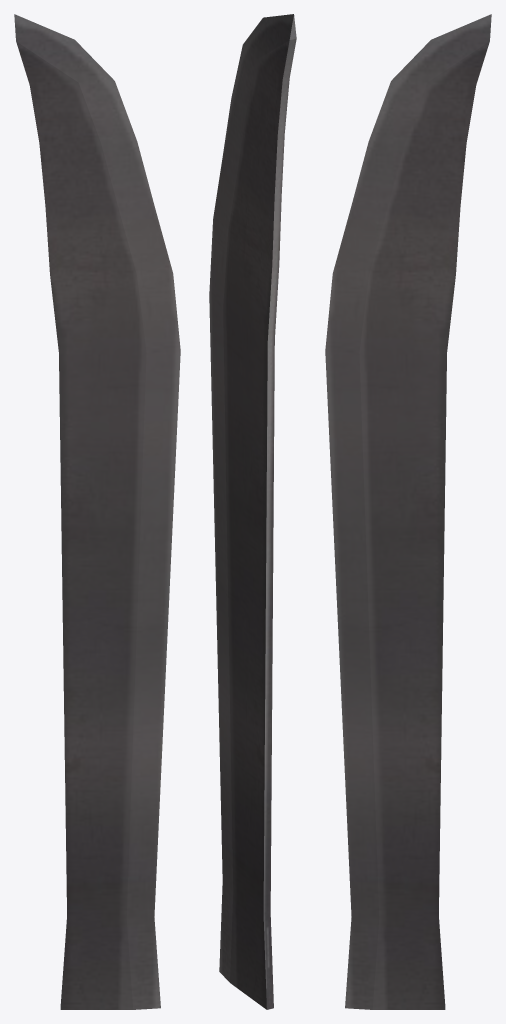
File: Machete_Blade.fbx
The picture shows the model from 3 angles, left to right: view 1: azimuth 90°, elevation 25°; view 2: azimuth 210°, elevation 25°; view 3: azimuth 270°, elevation 25°; orthographic projection.
Parts seen in each view (by area): view 1: polySurface5; view 2: polySurface5; view 3: polySurface5.
Boxes of the visible parts, left/top/right/bottom form: polySurface5: left=14, top=14, right=180, bottom=1009; polySurface5: left=209, top=14, right=296, bottom=1009; polySurface5: left=325, top=14, right=491, bottom=1009.
Bounding box in the file's own units: 0.0144 × 1.96 × 0.2974.
